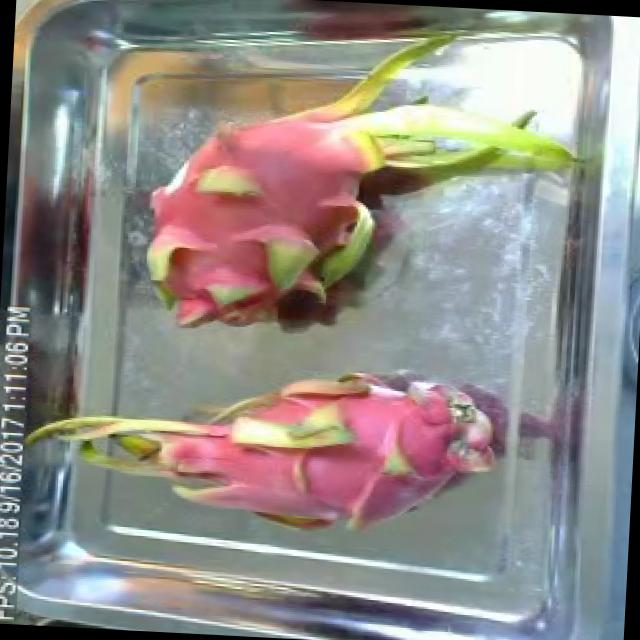Fruit: (346, 153, 458, 221)
